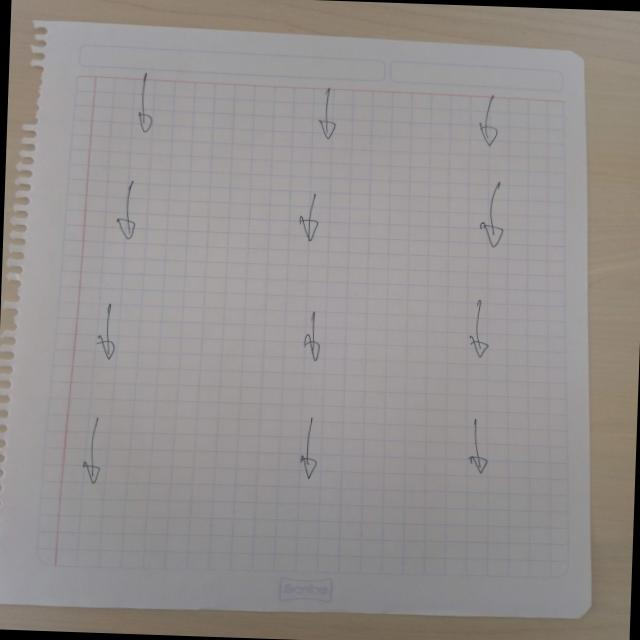arrow_line_down: (470, 184, 518, 248), (70, 412, 109, 488), (82, 304, 126, 362), (456, 420, 501, 476), (289, 416, 325, 484), (460, 297, 497, 358), (294, 308, 332, 366), (292, 192, 330, 246), (115, 178, 144, 246), (128, 66, 156, 134), (316, 84, 346, 144), (474, 93, 504, 145)
